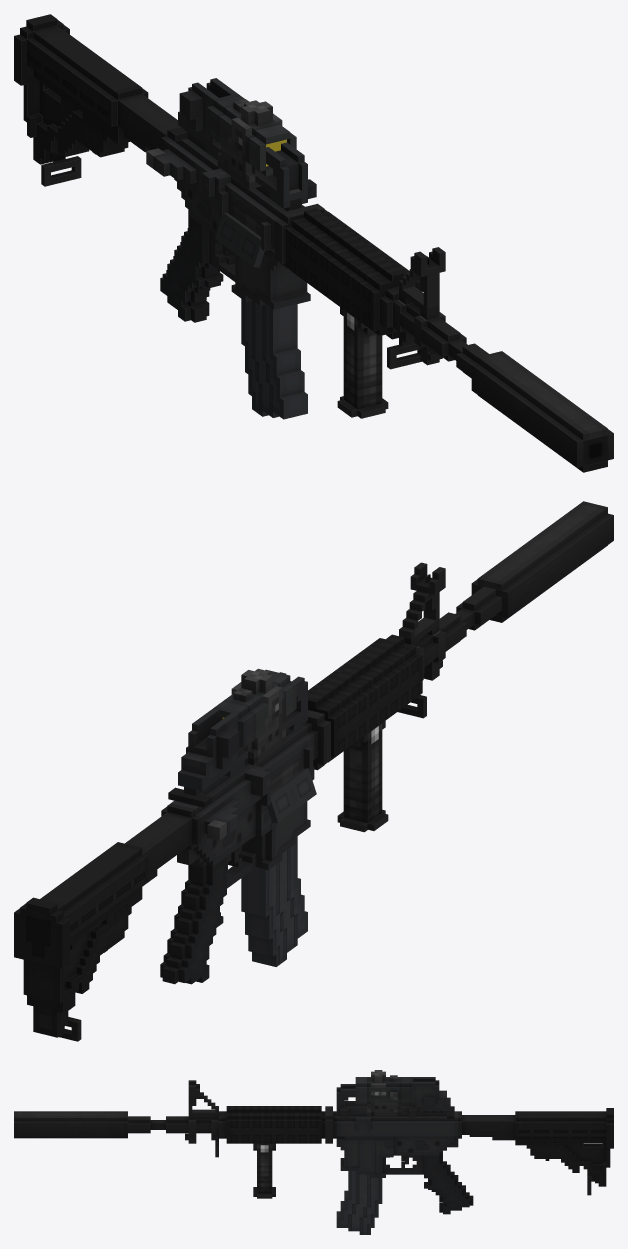
Rendered from RD_M4A1_GOLD.glb.
3 views of the same model, one above another, from view 1: azimuth 30°, elevation 25°; view 2: azimuth 150°, elevation 25°; view 3: azimuth 270°, elevation 25° (orthographic). The views are drawn at different scales.
Visible parts, largest first — view 1: M4A1, SILENCER_6X6, M41A_CLIP, M4A1_SCOPE, GRIP1, SCOPE_TASCO, SCOPE_HOLOSUN; view 2: M4A1, SILENCER_6X6, M4A1_SCOPE, M41A_CLIP, GRIP1, SCOPE_TASCO, SCOPE_HOLOSUN; view 3: M4A1, SILENCER_6X6, M4A1_SCOPE, M41A_CLIP, SCOPE_TASCO, GRIP1, SCOPE_HOLOSUN.
Boxes of the visible parts, box(x1,y1,x2,y2) form: M4A1: box(14, 14, 488, 378); SILENCER_6X6: box(471, 351, 613, 472); M41A_CLIP: box(241, 299, 307, 419); M4A1_SCOPE: box(178, 78, 445, 307); GRIP1: box(337, 307, 388, 418); SCOPE_TASCO: box(207, 93, 296, 189); SCOPE_HOLOSUN: box(217, 113, 282, 186); M4A1: box(14, 586, 501, 1041); SILENCER_6X6: box(471, 501, 613, 622); M4A1_SCOPE: box(178, 562, 445, 791); M41A_CLIP: box(241, 836, 307, 966); GRIP1: box(337, 721, 388, 832); SCOPE_TASCO: box(213, 668, 296, 765); SCOPE_HOLOSUN: box(231, 682, 282, 765); M4A1: box(128, 1106, 613, 1214); SILENCER_6X6: box(14, 1111, 127, 1138); M4A1_SCOPE: box(188, 1077, 450, 1117); M41A_CLIP: box(336, 1171, 382, 1234); SCOPE_TASCO: box(355, 1070, 412, 1115); GRIP1: box(253, 1143, 275, 1198); SCOPE_HOLOSUN: box(371, 1083, 400, 1115).
Bounding box in the file's own units: 0.0984 × 0.4528 × 1.56.
Materials: 9 (9 with a texture image).
